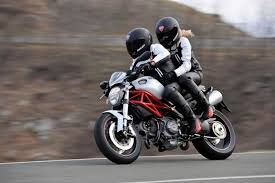motor: (92, 70, 239, 161)
